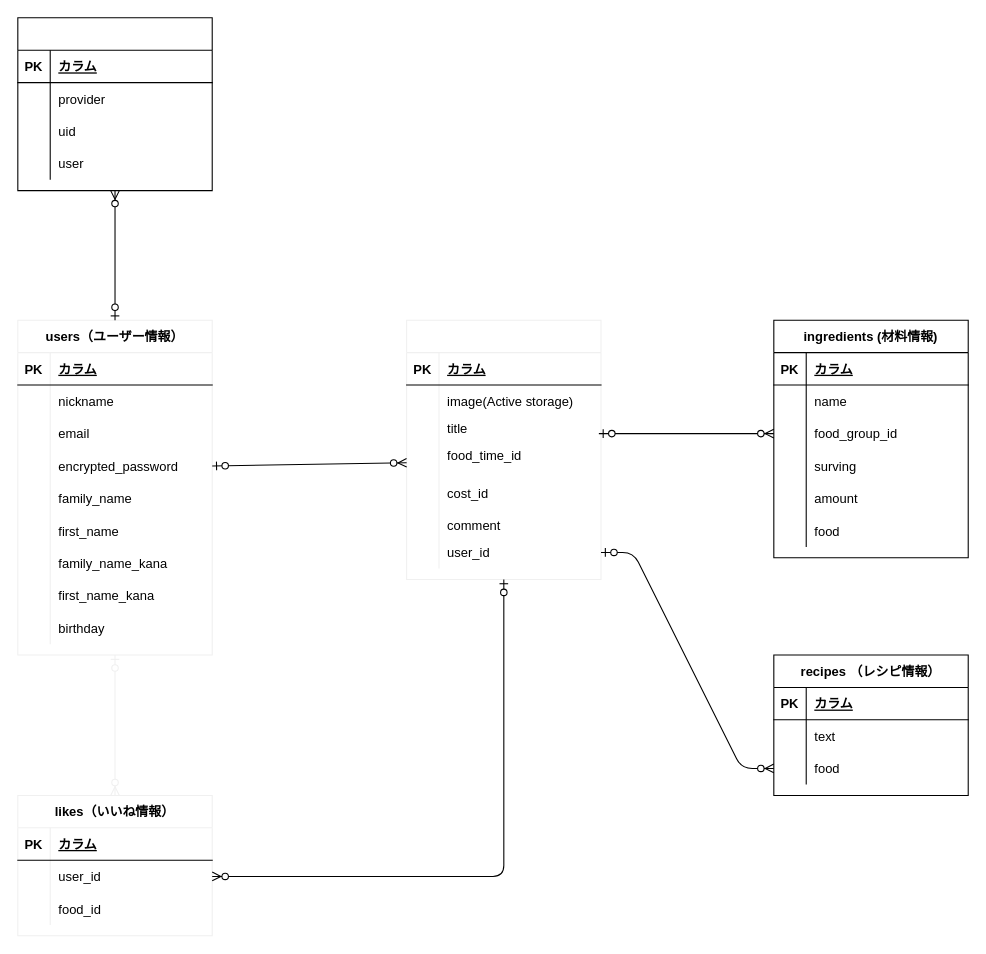
This 986x954 diagram has some shape labels left out. Here are the shapes that lost their labels. From the top down, the box of each, then its label:
(17, 17, 212, 191): sns_credentials（sns情報）
(406, 319, 601, 579): foods（料理情報）
